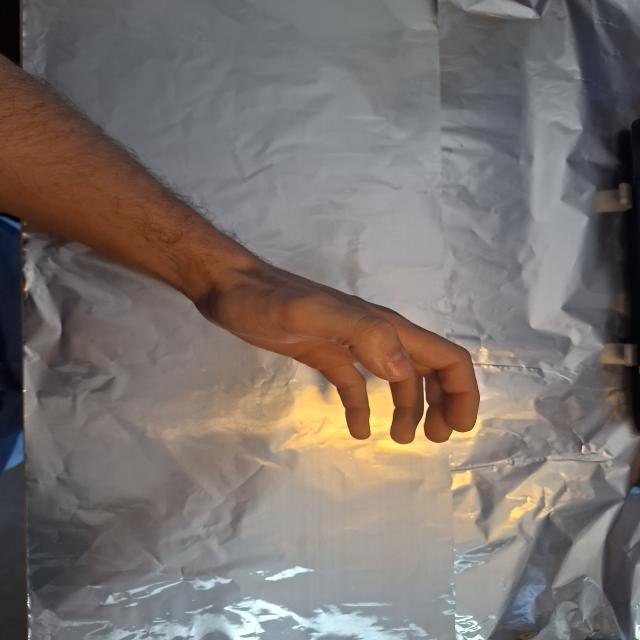glove_off: (190, 267, 485, 447)
